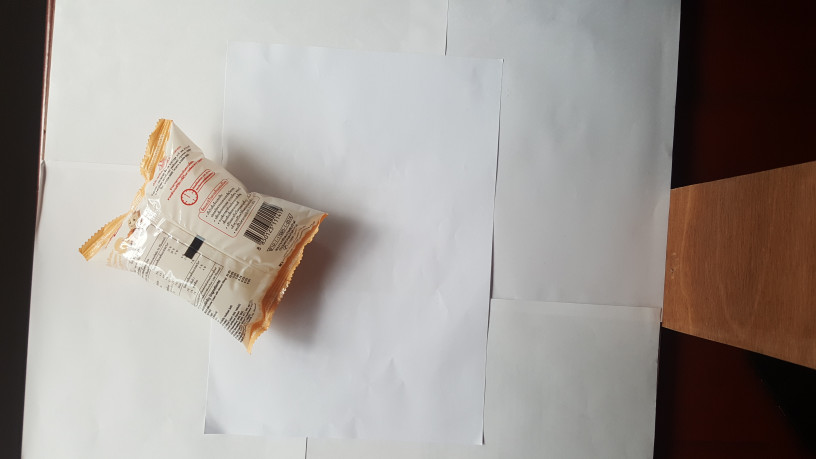farmhouse-sweetsandwich-almond: (68, 110, 339, 361)
